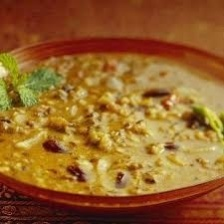sabzi: (2, 53, 224, 198)
